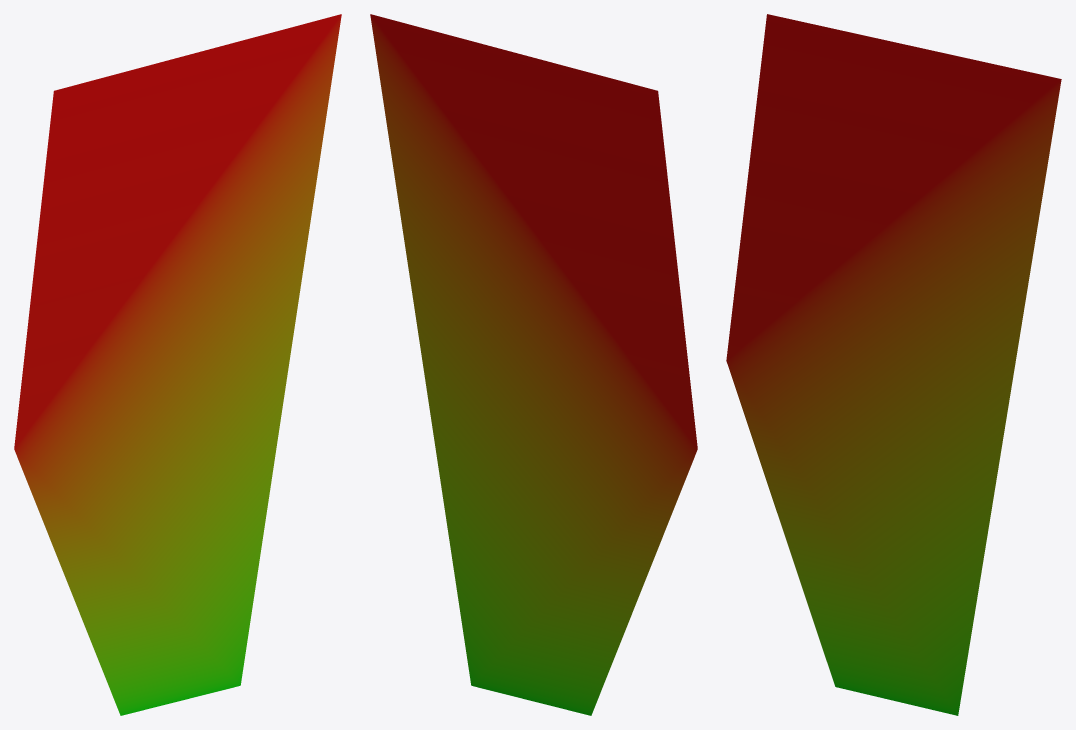
File: Tundra Grass_LOD7_Var19_wk2oaeyqx.fbx
The picture shows the model from 3 angles, left to right: view 1: azimuth 30°, elevation 25°; view 2: azimuth 150°, elevation 25°; view 3: azimuth 330°, elevation 25°; orthographic projection. The views are drawn at different scales.
Visible parts, largest first — view 1: _2u31_Var19_LOD7; view 2: _2u31_Var19_LOD7; view 3: _2u31_Var19_LOD7.
Part boxes in pixels (x1,y1,x2,y2): _2u31_Var19_LOD7: [14, 14, 341, 715]; _2u31_Var19_LOD7: [370, 14, 697, 715]; _2u31_Var19_LOD7: [726, 14, 1061, 715].
Size of the model in its own units: 30.49 by 57.63 by 2.52e-06.
